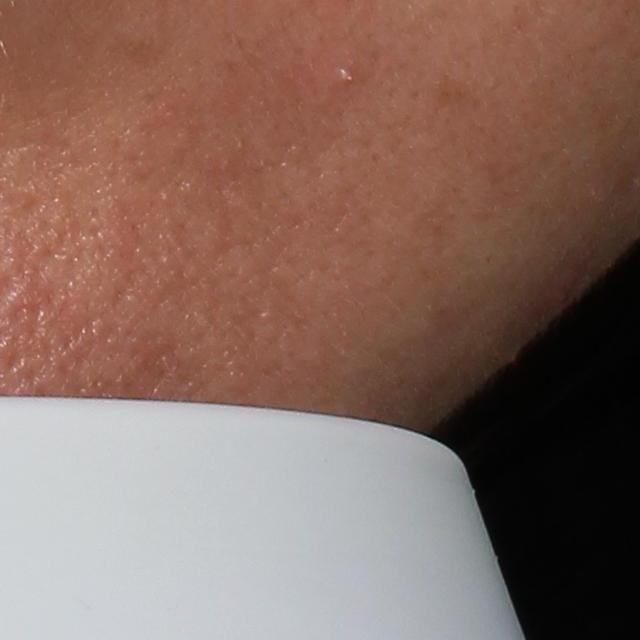pustule: (334, 56, 357, 86)
